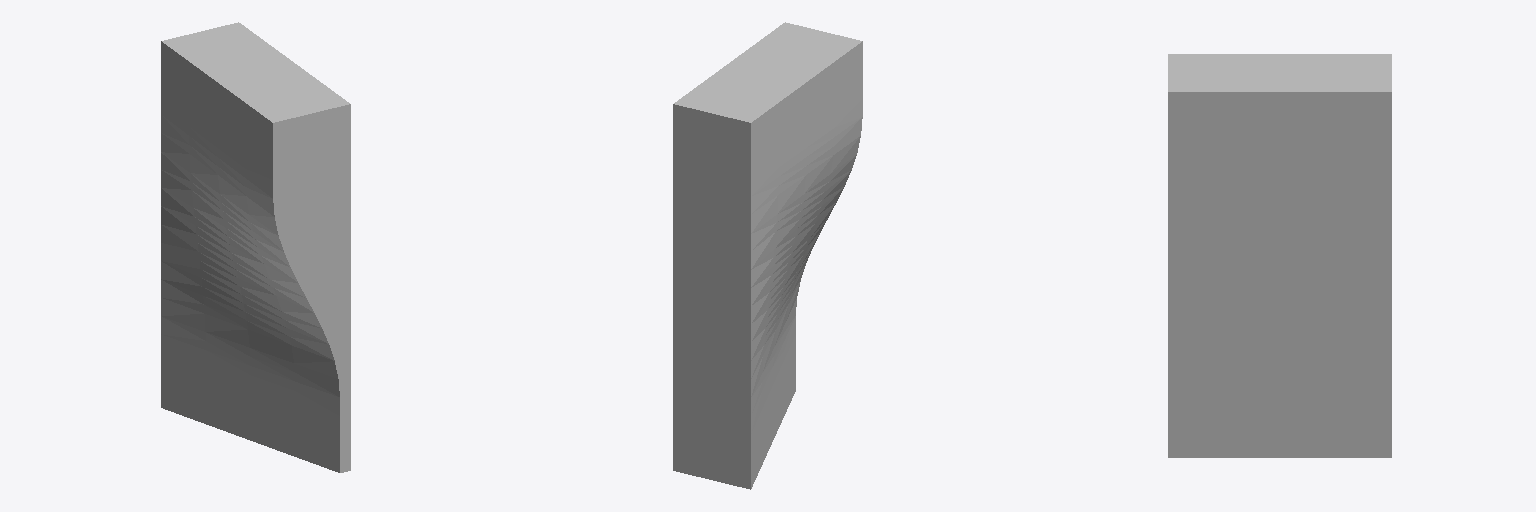
File: VANCOUVERHOUSE.obj
The picture shows the model from 3 angles: view 1: azimuth 30°, elevation 25°; view 2: azimuth 150°, elevation 25°; view 3: azimuth 270°, elevation 25°; orthographic projection.
Size of the model in its own units: 20.62 by 92.9 by 51.33.